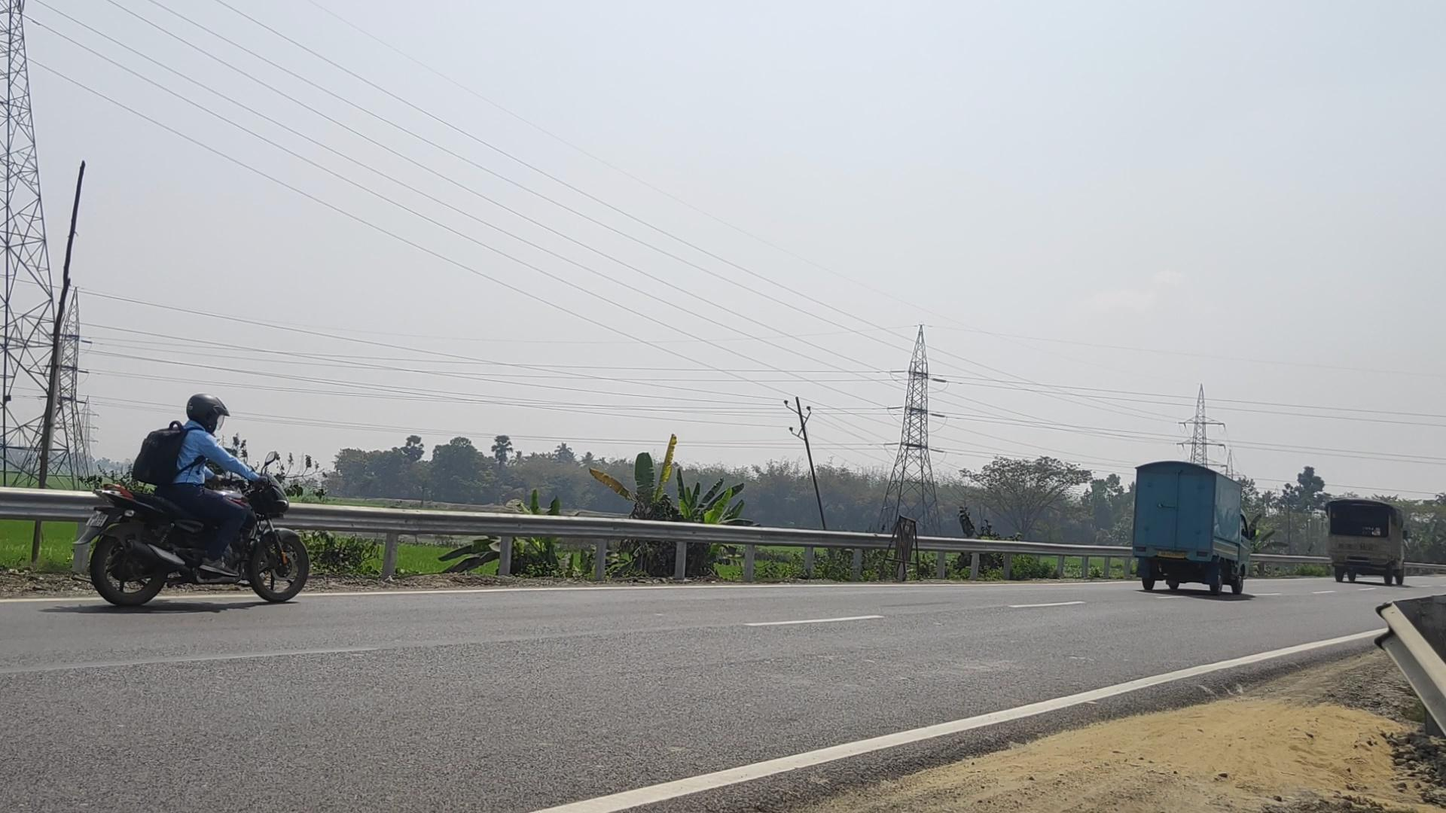bike: (72, 393, 310, 607)
truck: (1326, 498, 1408, 586)
van: (1132, 461, 1256, 595)
